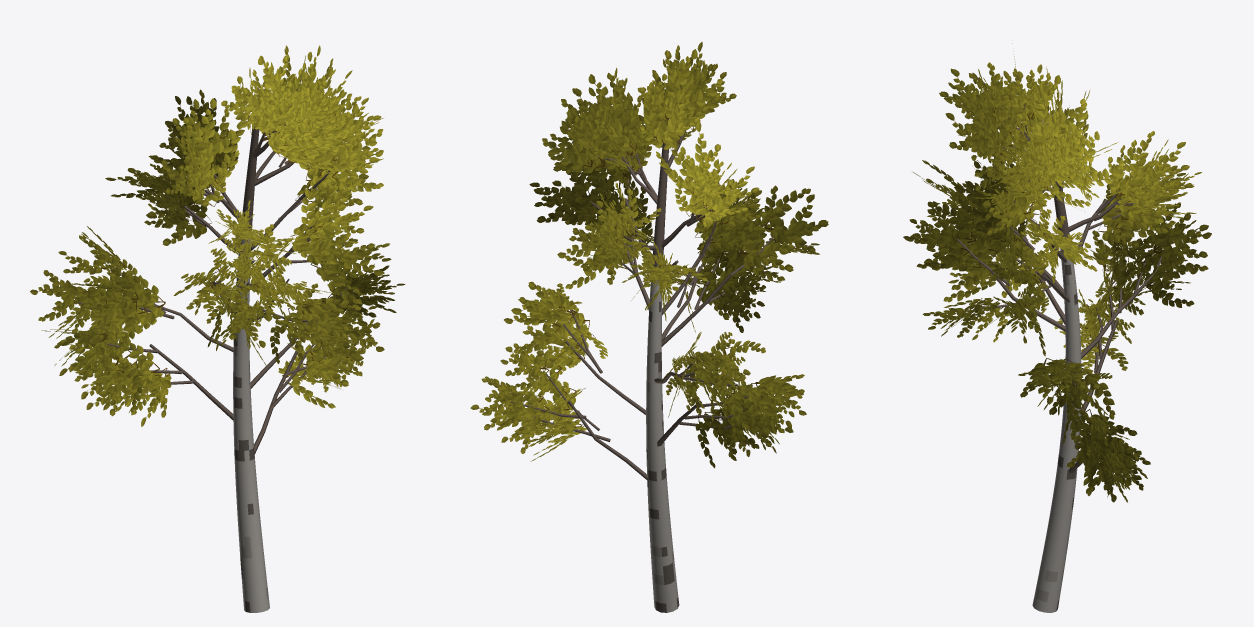
File: birch_1_burnt1.glb
3 renders of one model, left to right at view 1: azimuth 30°, elevation 25°; view 2: azimuth 150°, elevation 25°; view 3: azimuth 270°, elevation 25°, orthographic. The views are drawn at different scales.
Visible parts, largest first — view 1: birch_1_burnt1; view 2: birch_1_burnt1; view 3: birch_1_burnt1.
Boxes of the visible parts, box(x1,y1,x2,y2) form: birch_1_burnt1: box(30, 45, 405, 612); birch_1_burnt1: box(470, 42, 828, 612); birch_1_burnt1: box(903, 43, 1211, 612).
Bounding box in the file's own units: 6.75 × 10.13 × 5.5.
5 materials, 1 textured.
